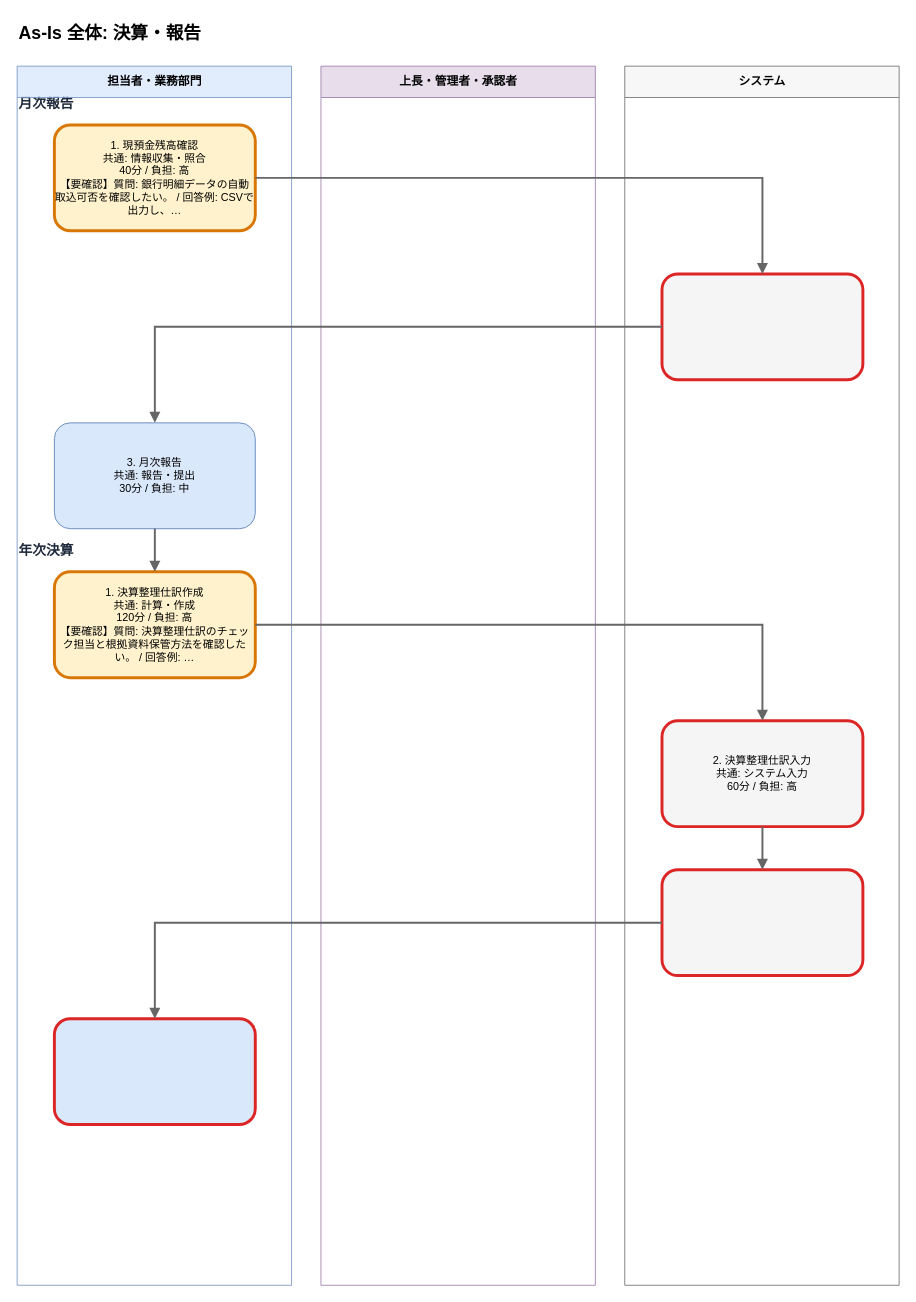
The diagram is 916 pixels wide and 1302 high, and some of its shapes have lost their labels. The box of each missing label's shape, as (x1, y1, x2, y2) in pixels:
2. 月次試算表作成 共通: 計算・作成 60分 / 負担: 高: (660, 272, 864, 381)
3. 計算書類作成 共通: 計算・作成 180分 / 負担: 高: (660, 868, 864, 977)
4. 申告・納税 共通: 報告・提出 90分 / 負担: 高: (52, 1017, 256, 1126)
